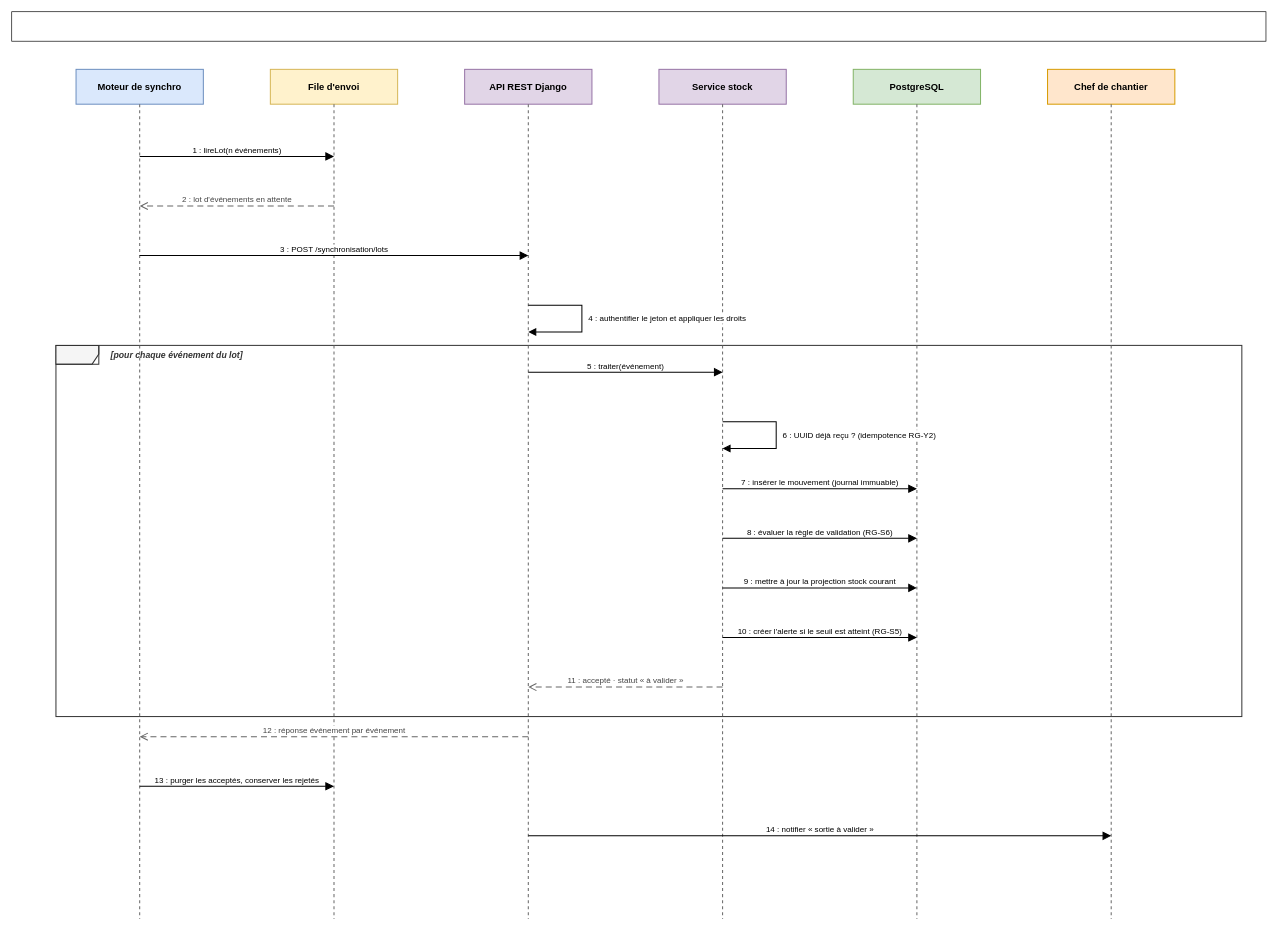
The diagram is 1278 pixels wide and 932 high, and some of its shapes have lost their labels. The centre of each missing label's shape, as x and y in pixels:
"Diagramme de séquence 2 — Synchronisation de la file d'envoi au retour du réseau" goes at (638,26).
"loop" goes at (77,354).
